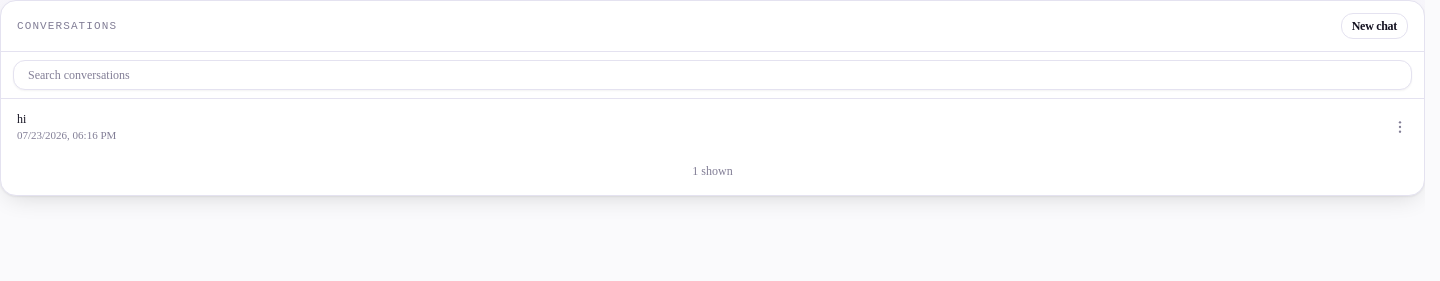
AiConversationList inline rename › shows a live code-point counter as the value changes
Click the button named "conversation options" at x=1400, y=127, box [1384,111,1416,143]
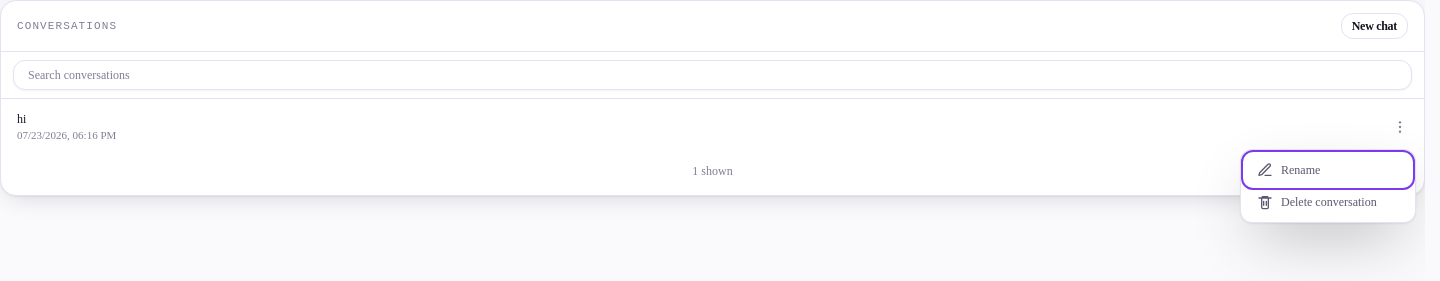
Click the menu item "Rename" at x=1328, y=170, box [1245,154,1411,186]
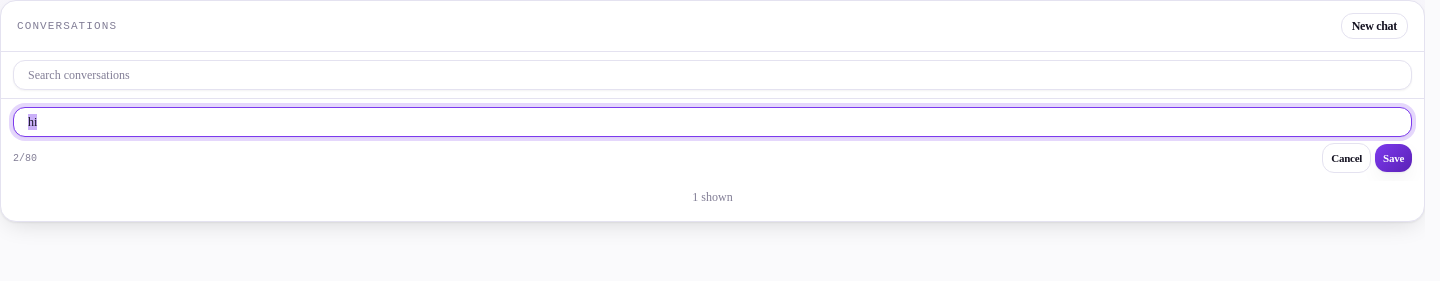
Now the text "2/80" is shown, box [13,150,37,166]
Type "ya" into the field named "conversation title" at x=712, y=122, box [13,107,1412,137]
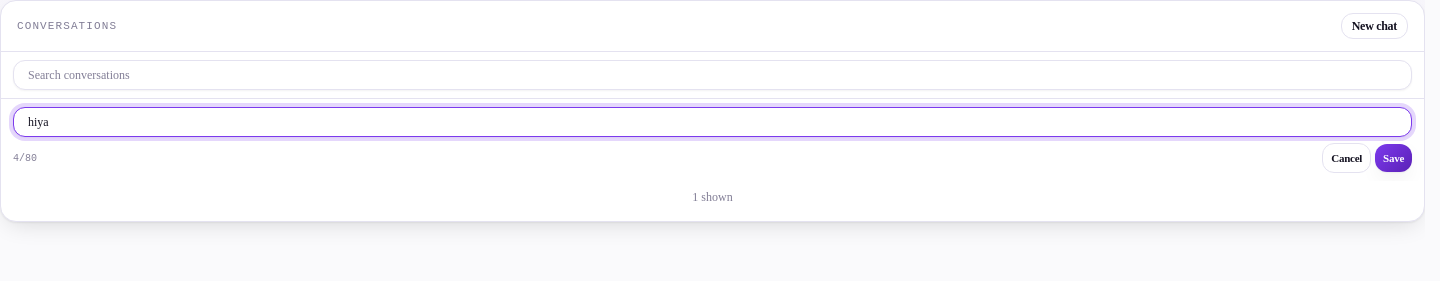
Now the text "4/80" is shown, box [13,150,37,166]
